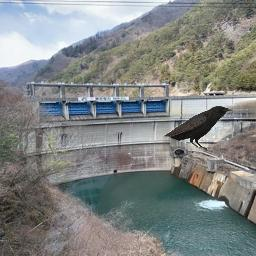Crow: (163, 105, 232, 151)
